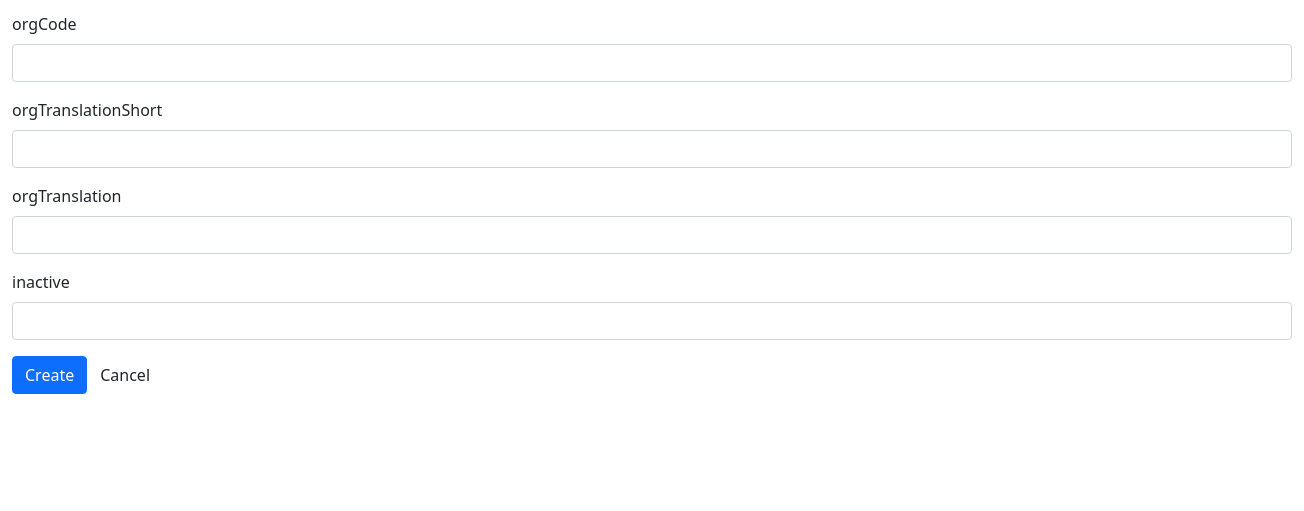
Test: UCSBOrganizationForm tests › Correct Error message if inactive is non-boolean
In the field with test id "UCSBOrganizationForm-inactive": (652, 321) [12, 302, 1292, 340], type "invalid-input"
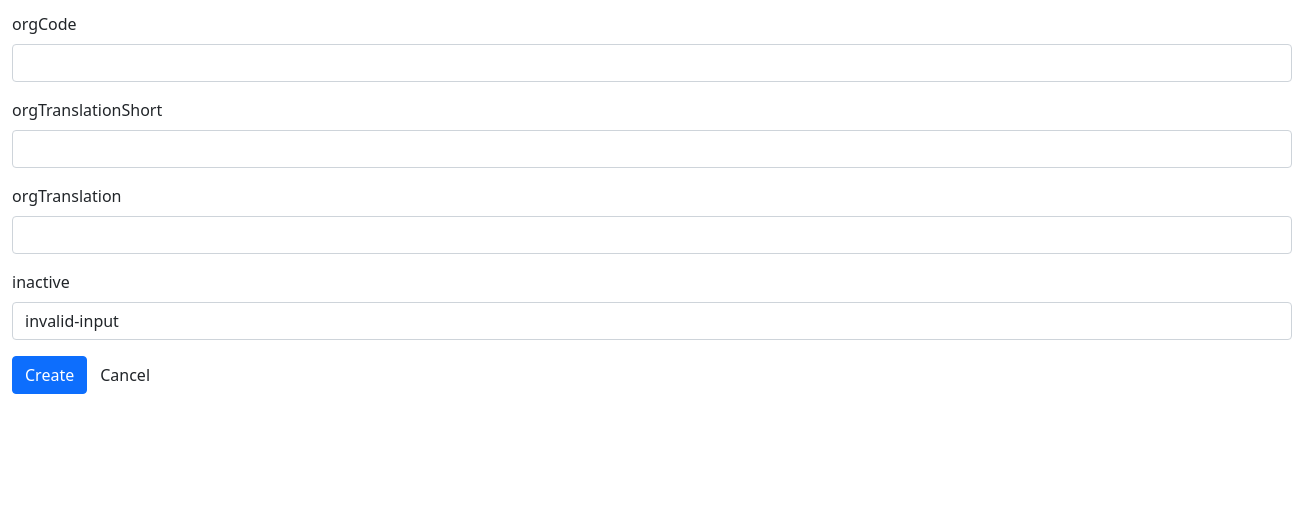
Click the button with test id "UCSBOrganizationForm-submit": (50, 375) [12, 356, 87, 394]
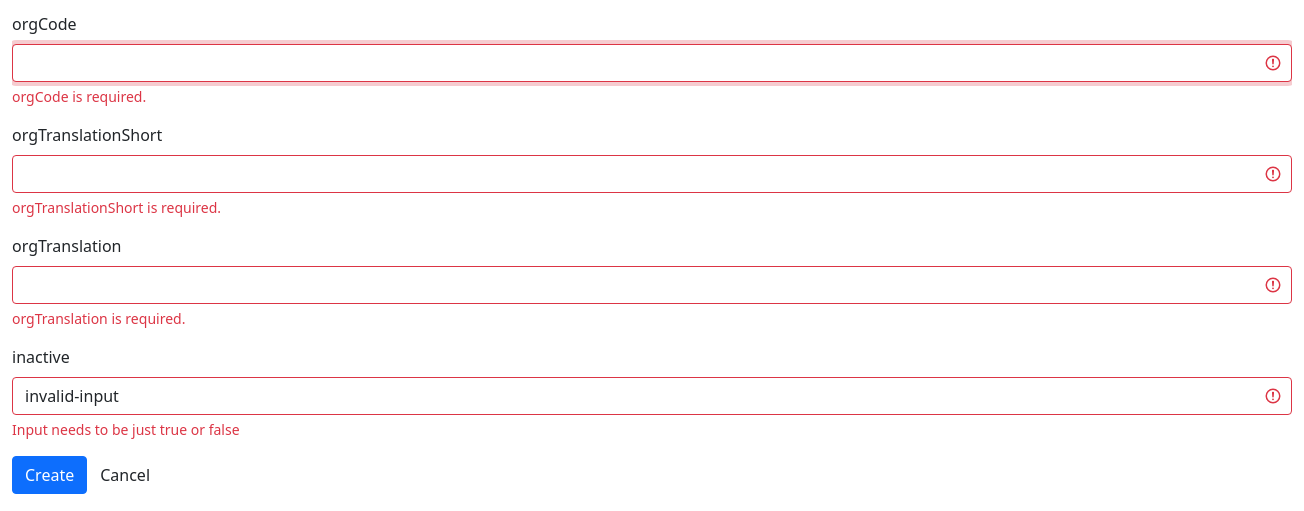
Expected: the text "Input needs to be just true or false" is shown, [12, 420, 240, 439]
